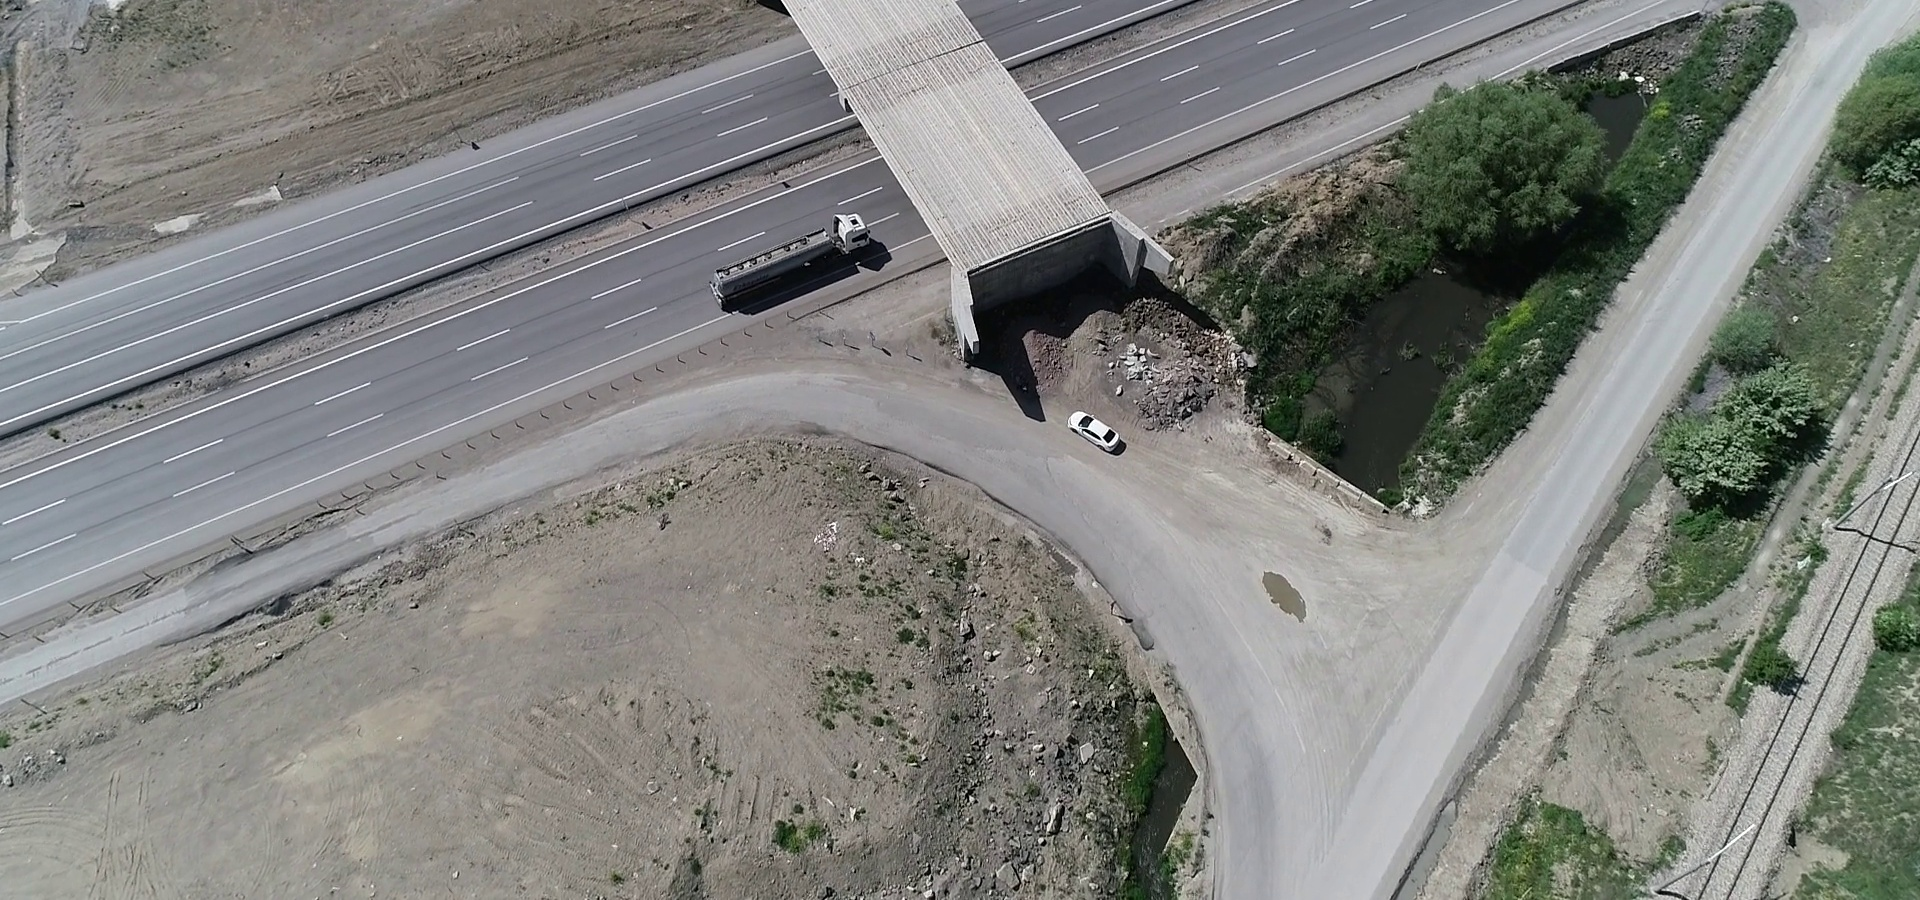araba: (1067, 404, 1134, 456)
kamyon: (705, 204, 887, 322)
